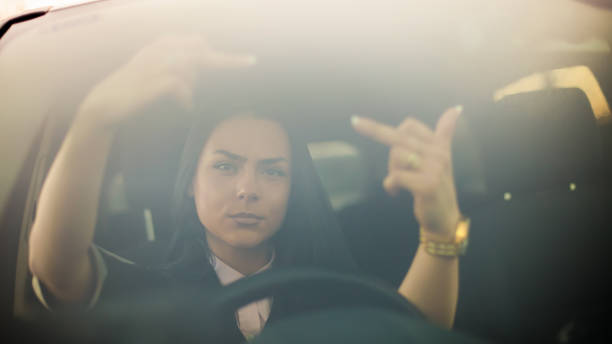insulting_gesture: (348, 103, 465, 207), (104, 33, 260, 109)
